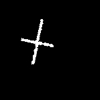single_crochet: (21, 19, 52, 63)
